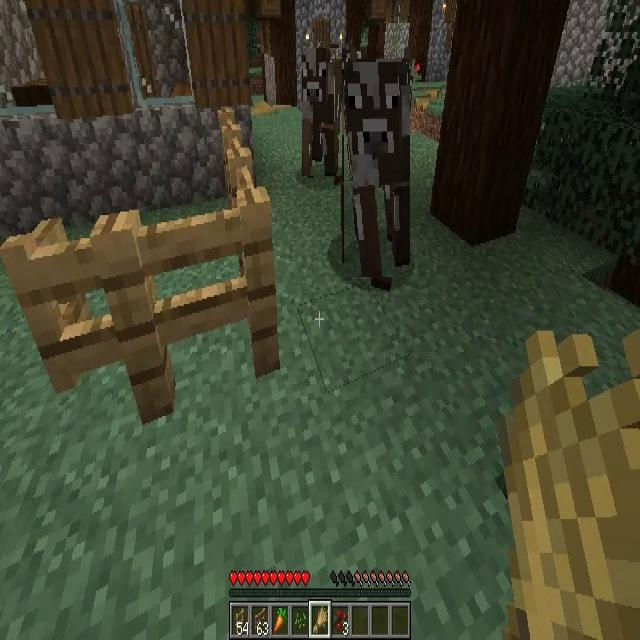cow: (344, 62, 410, 277), (302, 48, 342, 176)
